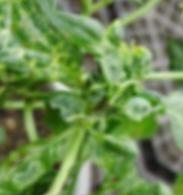Tomato leaf mosaic virus: (0, 11, 96, 138), (72, 113, 148, 191), (12, 128, 75, 190)
